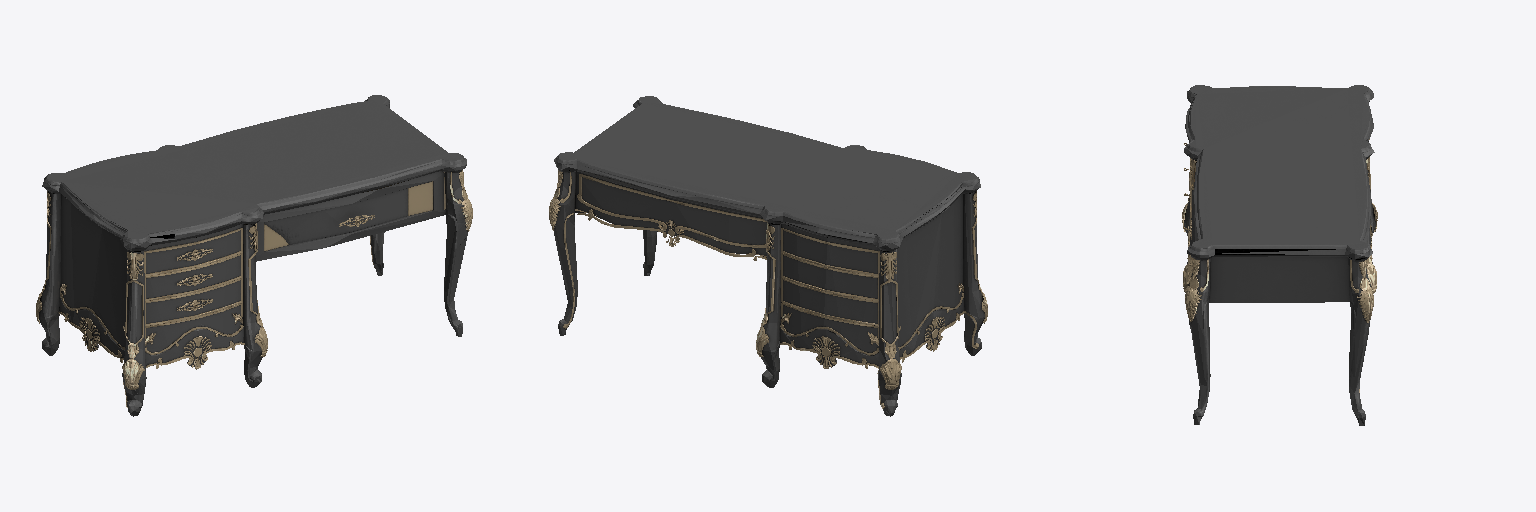
3 views of the same model, side by side, from view 1: azimuth 30°, elevation 25°; view 2: azimuth 150°, elevation 25°; view 3: azimuth 270°, elevation 25° (orthographic).
Parts seen in each view (by area): view 1: solid_002, solid_001, solid_003; view 2: solid_002, solid_001, solid_003; view 3: solid_002, solid_001, solid_003.
Part boxes in pixels (x1,y1,x2,y2): solid_002: (39,95,467,416); solid_001: (36,170,472,407); solid_003: (42,100,389,248); solid_002: (554,96,984,416); solid_001: (549,170,987,408); solid_003: (554,157,980,248); solid_002: (1184,85,1375,425); solid_001: (1182,139,1377,392); solid_003: (1187,90,1374,259).
Size of the model in its own units: 2 by 0.9707 by 0.9675.
1 materials, 1 textured.